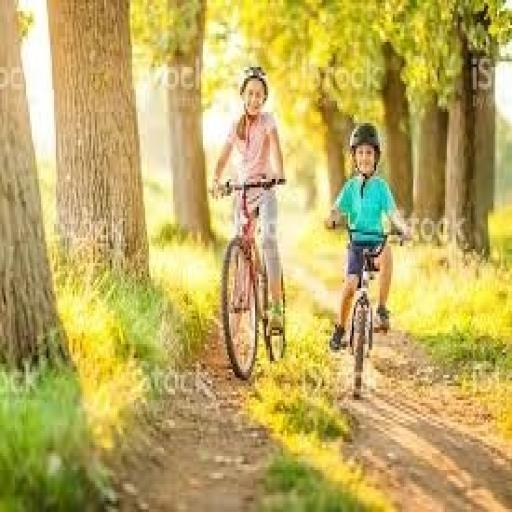cycling: (206, 62, 288, 342), (322, 120, 413, 356)
